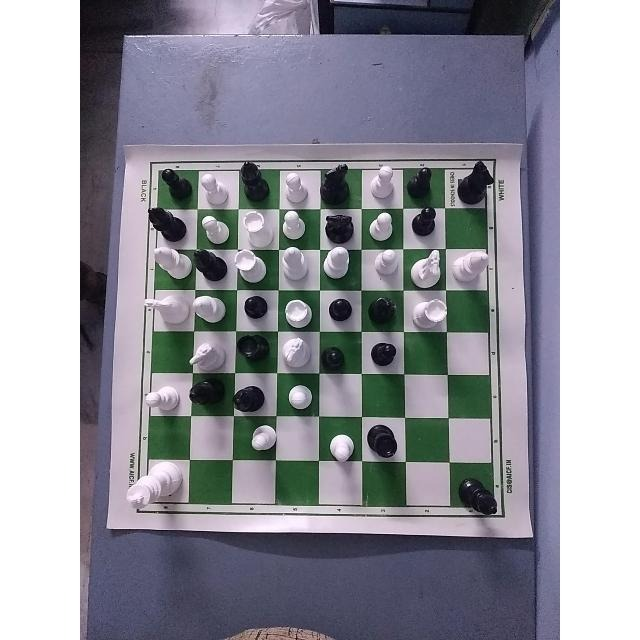black-bishop: (456, 465, 502, 525), (142, 199, 185, 245), (361, 292, 405, 334), (188, 376, 234, 416), (238, 157, 276, 203), (231, 380, 277, 416), (189, 244, 230, 284)
black-knight: (454, 157, 493, 209), (318, 158, 354, 210), (324, 204, 360, 246)
black-pawn: (322, 293, 361, 331), (157, 164, 193, 204), (241, 290, 277, 328), (367, 337, 405, 373), (321, 339, 357, 374), (404, 161, 436, 198), (409, 202, 437, 238)
black-rook: (456, 470, 501, 522), (363, 418, 407, 464), (232, 331, 276, 370)
white-bishop: (144, 244, 193, 284), (322, 242, 358, 289), (278, 244, 314, 284), (453, 249, 491, 284), (190, 291, 225, 326)
white-king: (122, 464, 186, 509)
white-knight: (184, 331, 225, 378), (277, 331, 322, 372), (403, 246, 446, 286), (142, 290, 187, 328)
white-pawn: (279, 169, 327, 211), (272, 378, 319, 418), (363, 163, 405, 205), (280, 207, 320, 247), (197, 168, 237, 208), (240, 418, 280, 457), (323, 429, 365, 465), (365, 209, 403, 247), (366, 246, 402, 286), (195, 210, 237, 242), (143, 384, 179, 416)
white-rook: (403, 295, 454, 333), (231, 245, 279, 283), (280, 291, 320, 331), (235, 211, 274, 248)
